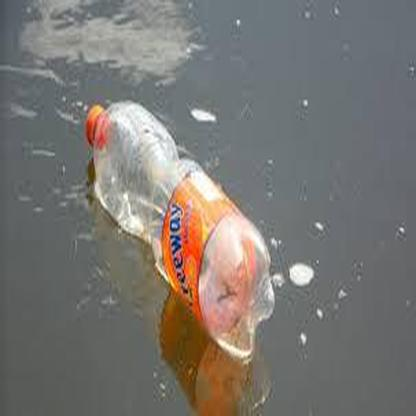plastic bottle: (85, 100, 274, 356)
